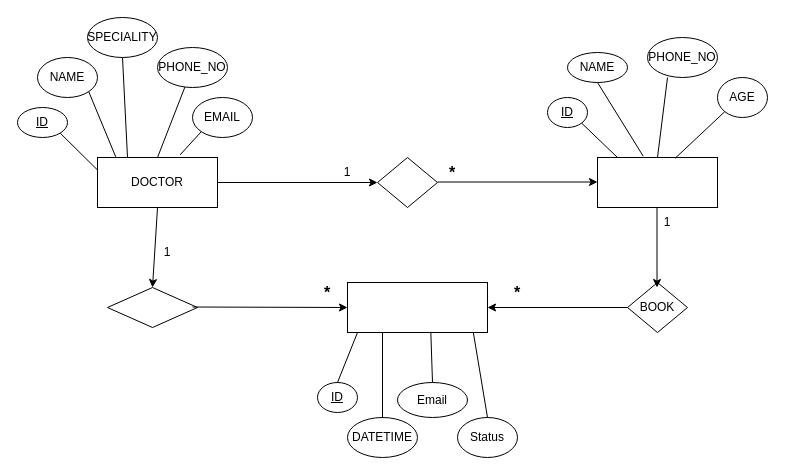
This 785x475 diagram has some shape labels left out. The shapes that lost their labels are listed below. From the top down, each one's centre as x and y in pixels, then its label:
(407,182): Has
(657,182): PATIENT
(152,307): SCHEDULE
(417,307): APPOINTMENT
